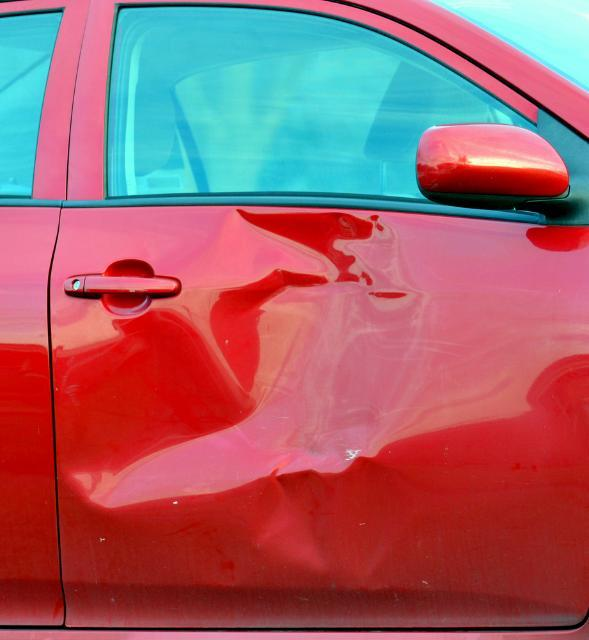dent: (50, 205, 428, 573)
